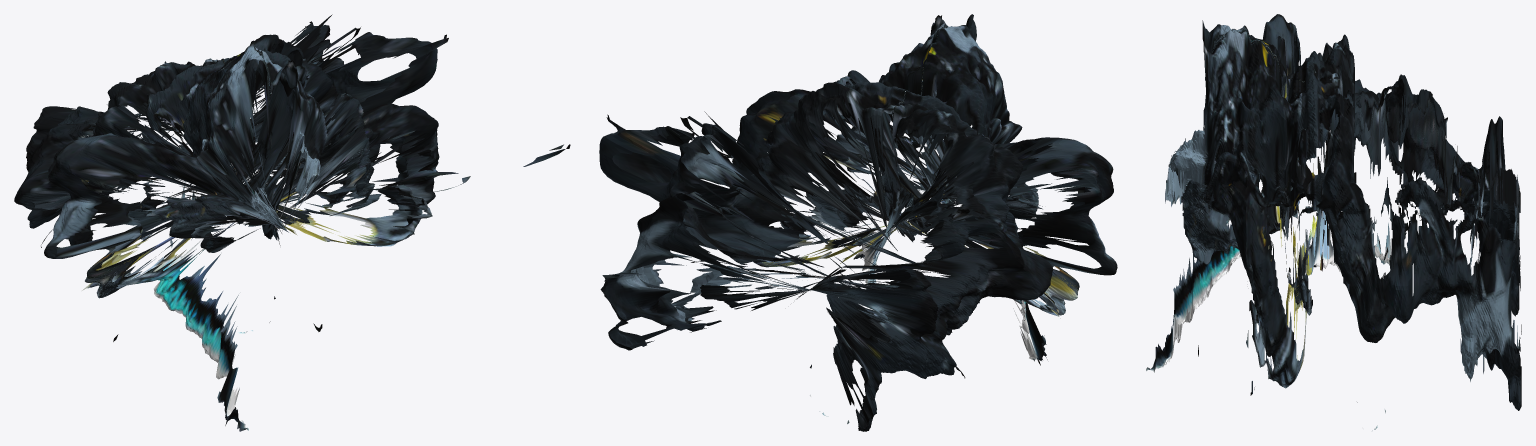
3 renders of one model, left to right at view 1: azimuth 30°, elevation 25°; view 2: azimuth 150°, elevation 25°; view 3: azimuth 270°, elevation 25°, orthographic. The views are drawn at different scales.
Parts seen in each view (by area): view 1: geometry_0; view 2: geometry_0; view 3: geometry_0.
Boxes of the visible parts, x1=… form: geometry_0: x1=14, y1=14, x2=570, y2=431; geometry_0: x1=599, y1=14, x2=1117, y2=431; geometry_0: x1=1146, y1=14, x2=1521, y2=430.
Bounding box in the file's own units: 1.6 × 1.04 × 0.9393.
1 material, 1 textured.
